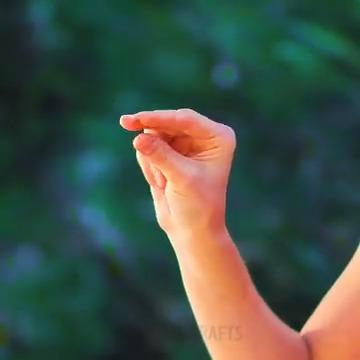No: (100, 75, 253, 244)
